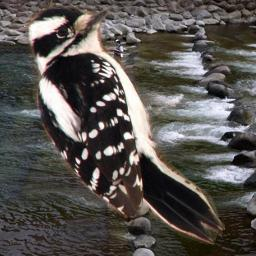Woodpecker: (26, 5, 225, 249)
